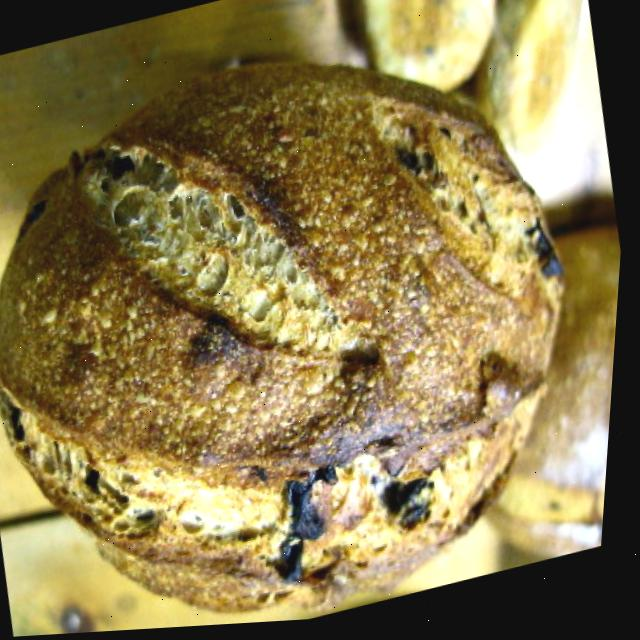面包点心: (0, 8, 630, 640)
